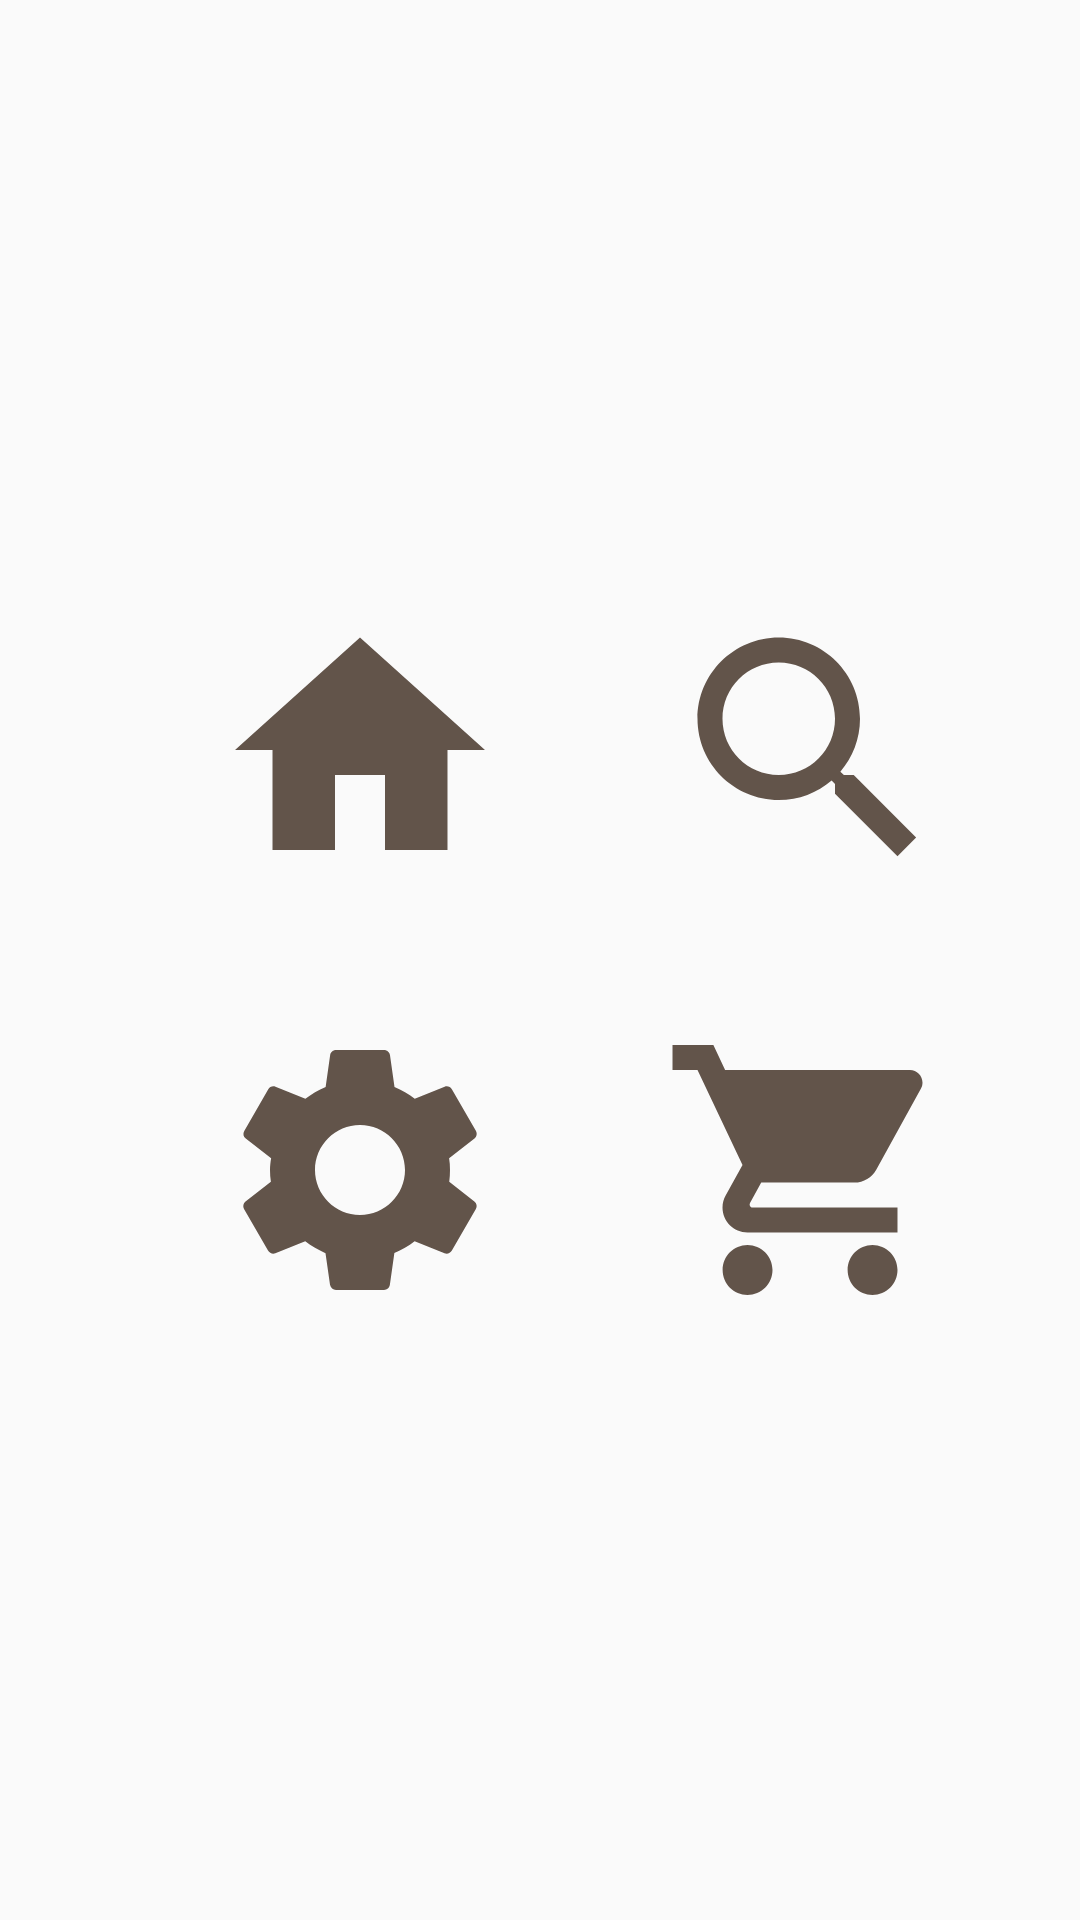

Point at icon controls on the screen. Image size 1080w x 1920h, points as (x,y).
home: (360,744)
local grocery store: (797,1170)
search: (806,746)
settings: (360,1170)
